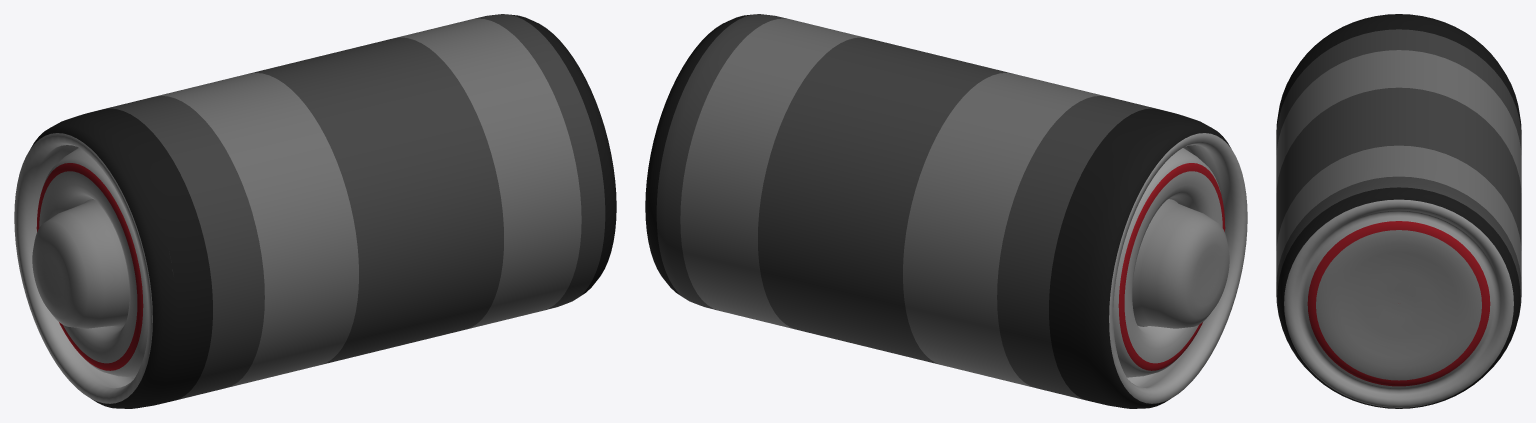
File: LV23_pin_unity.fbx
3 views of the same model, side by side, from view 1: azimuth 30°, elevation 25°; view 2: azimuth 150°, elevation 25°; view 3: azimuth 270°, elevation 25° (orthographic). The views are drawn at different scales.
Parts seen in each view (by area): view 1: Battery; view 2: Battery; view 3: Battery.
Boxes of the visible parts, x1,y1,x2,y2 form: Battery: (14,14,616,408); Battery: (645,14,1247,408); Battery: (1276,14,1521,408).
Size of the model in its own units: 0.3955 by 0.2064 by 0.2064.
1 material, 1 textured.
